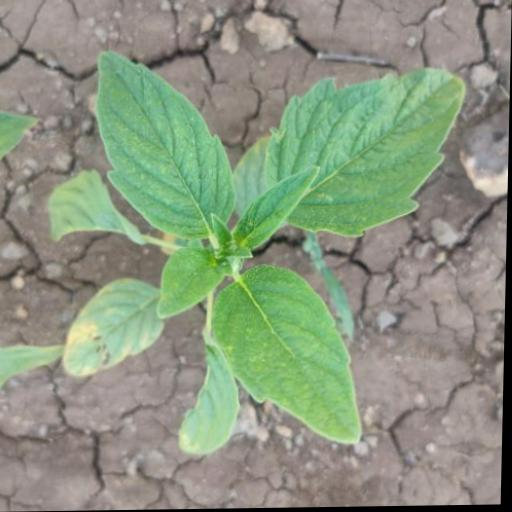crop: (60, 30, 478, 465)
